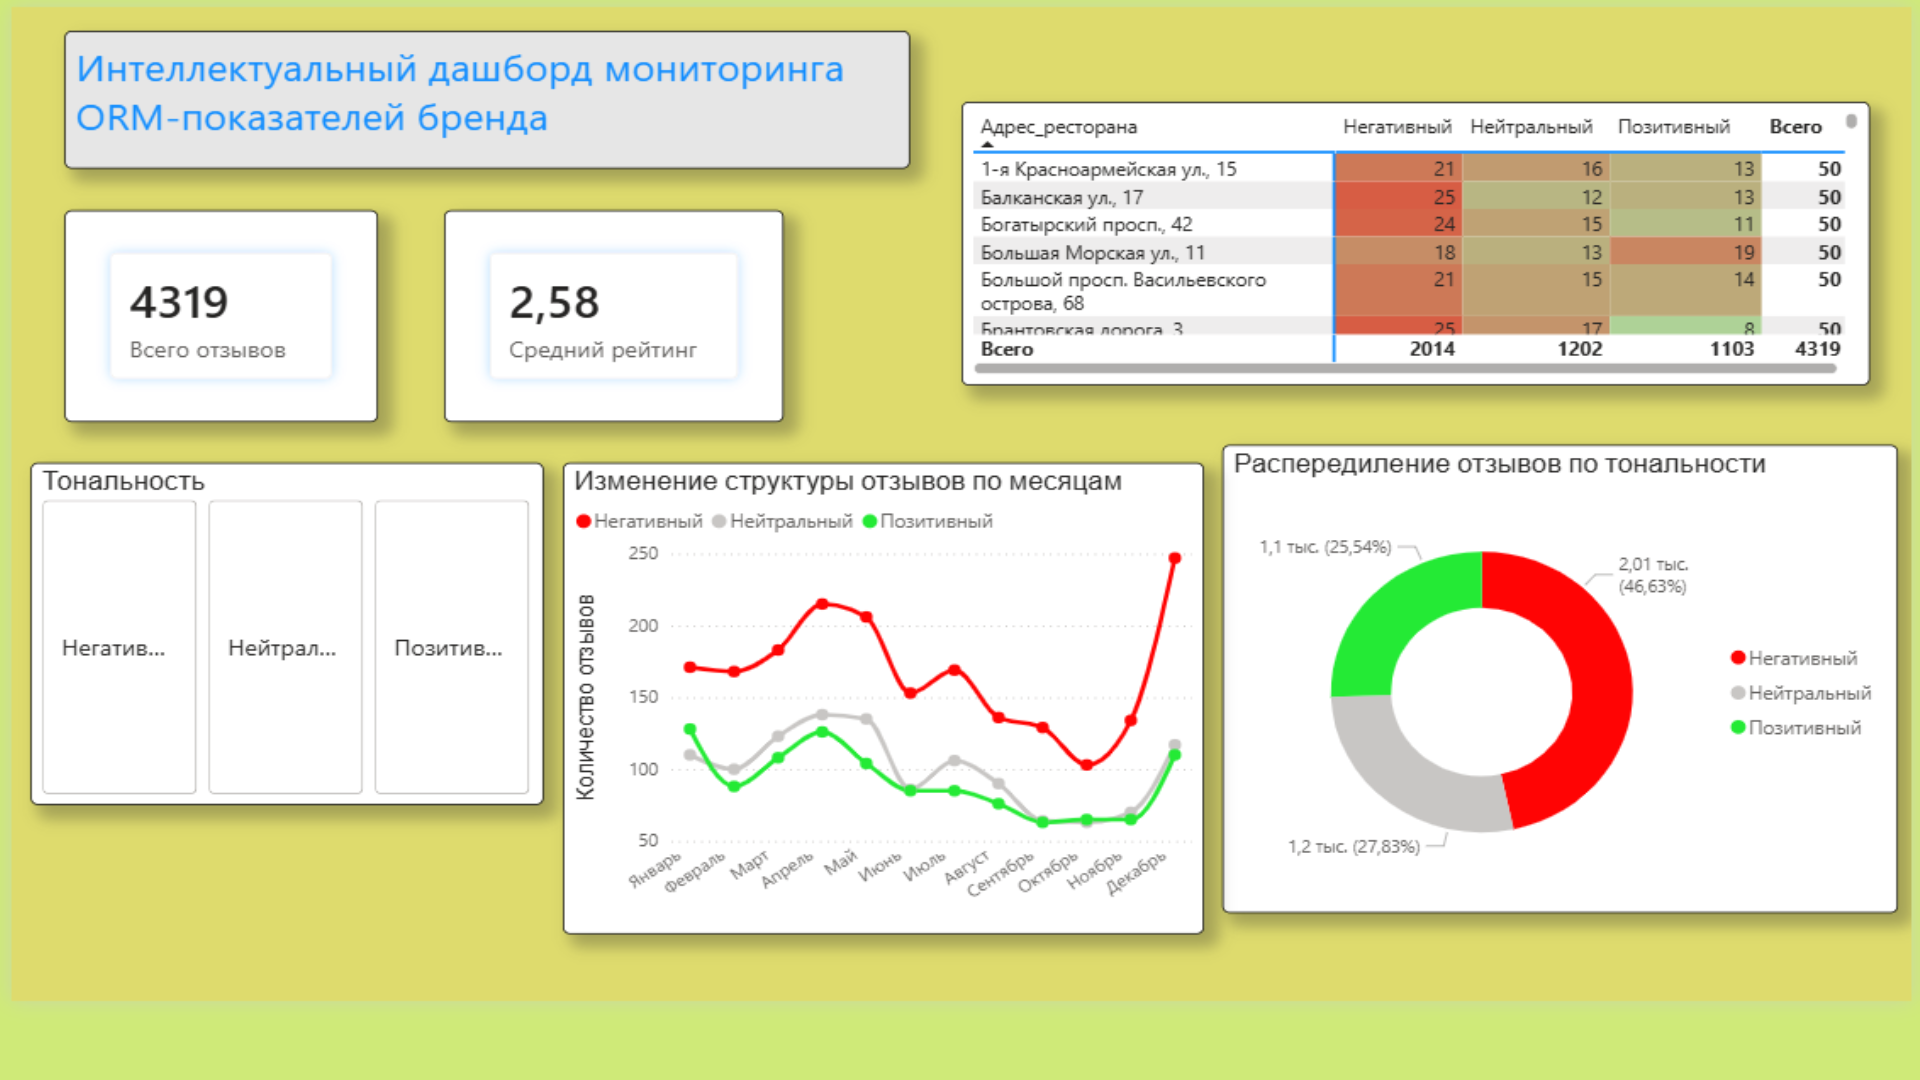

Layout of this report page (visuals, bound fields, positions):
{"tool":"powerbi","page":{"name":"Страница 1","canvas":[1280,720],"ordinal":0},"visuals":[{"type":"pivotTable","fields":{"Rows":["Рестораны.Адрес_ресторана"],"Columns":["Отзывы.Тональность"],"Values":["CountNonNull(Отзывы.Текст)"]},"box":[639.5,68.6,612,205.8],"z":0},{"type":"cardVisual","fields":{"Data":["CountNonNull(Отзывы.Текст)"]},"box":[35.7,146.8,211.3,153.7],"z":1000},{"type":"cardVisual","fields":{"Data":["Avg(Отзывы.Рейтинг)"]},"box":[290.9,146.8,229.2,153.7],"z":2000},{"type":"advancedSlicerVisual","fields":{"Values":["Отзывы.Тональность"]},"box":[12.3,329.3,345.8,248.4],"z":3000},{"type":"donutChart","title":"Распередиление отзывов по тональности","fields":{"Category":["Отзывы.Тональность"],"Y":["CountNonNull(Отзывы.Текст)"]},"box":[815.1,317,455.6,338.9],"z":4000},{"type":"textbox","box":[35.7,17.8,569.5,100.2],"z":5000},{"type":"lineChart","title":"Изменение структуры отзывов по месяцам","fields":{"Category":["Отзывы.Дата.Изменение.Иерархия дат.Месяц"],"Y":["CountNonNull(Отзывы.Текст)"],"Series":["Отзывы.Тональность"]},"box":[371.9,329.3,432.2,341.7],"z":6000}]}

Visuals, with their boxes in screenshot pixels (x1, y1, x2, y2), scaled from the page's 1280x720 canvas onto the 1920x1080 screenshot:
pivotTable - Рестораны.Адрес_ресторана x Отзывы.Тональность: {"x1": 959, "y1": 103, "x2": 1877, "y2": 412}
cardVisual - CountNonNull(Отзывы.Текст): {"x1": 54, "y1": 220, "x2": 370, "y2": 451}
cardVisual - Avg(Отзывы.Рейтинг): {"x1": 436, "y1": 220, "x2": 780, "y2": 451}
advancedSlicerVisual - Отзывы.Тональность: {"x1": 18, "y1": 494, "x2": 537, "y2": 867}
"Распередиление отзывов по тональности" donutChart: {"x1": 1223, "y1": 476, "x2": 1906, "y2": 984}
textbox: {"x1": 54, "y1": 27, "x2": 908, "y2": 177}
"Изменение структуры отзывов по месяцам" lineChart: {"x1": 558, "y1": 494, "x2": 1206, "y2": 1006}
